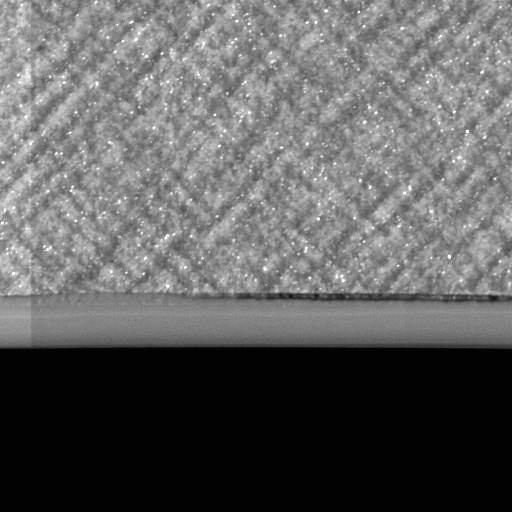jiaofeng: (221, 286, 511, 320)
